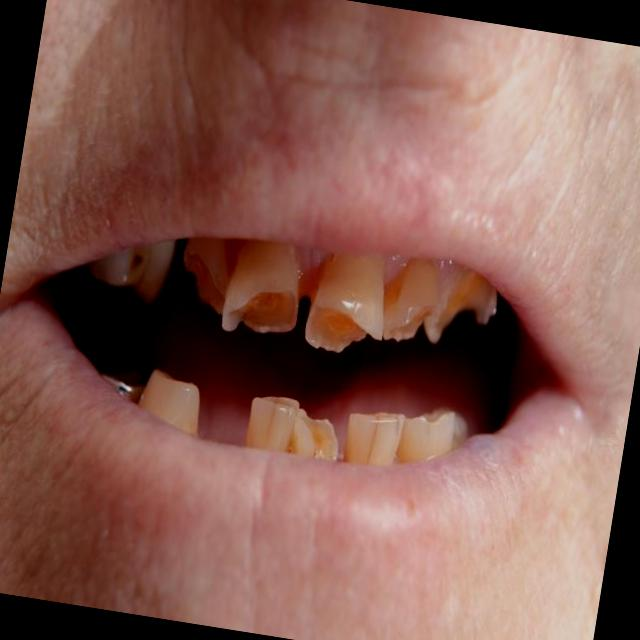caries: (300, 247, 394, 360), (220, 235, 308, 342), (376, 250, 450, 349), (434, 263, 501, 347), (175, 232, 235, 314)
